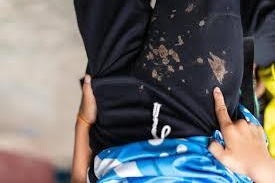earth: (149, 38, 183, 80), (205, 51, 228, 81)
